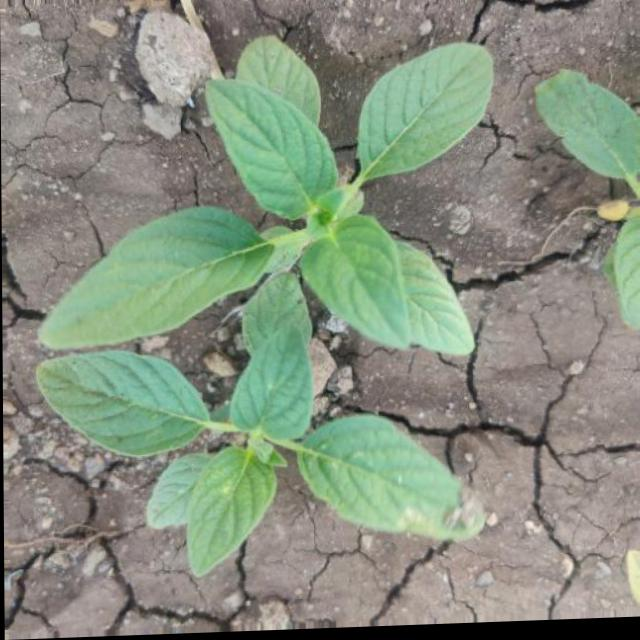crop: (16, 22, 516, 374), (24, 334, 493, 597)
